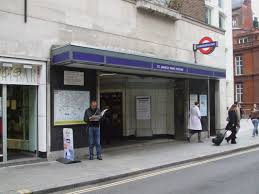London Underground: (192, 35, 217, 55)
